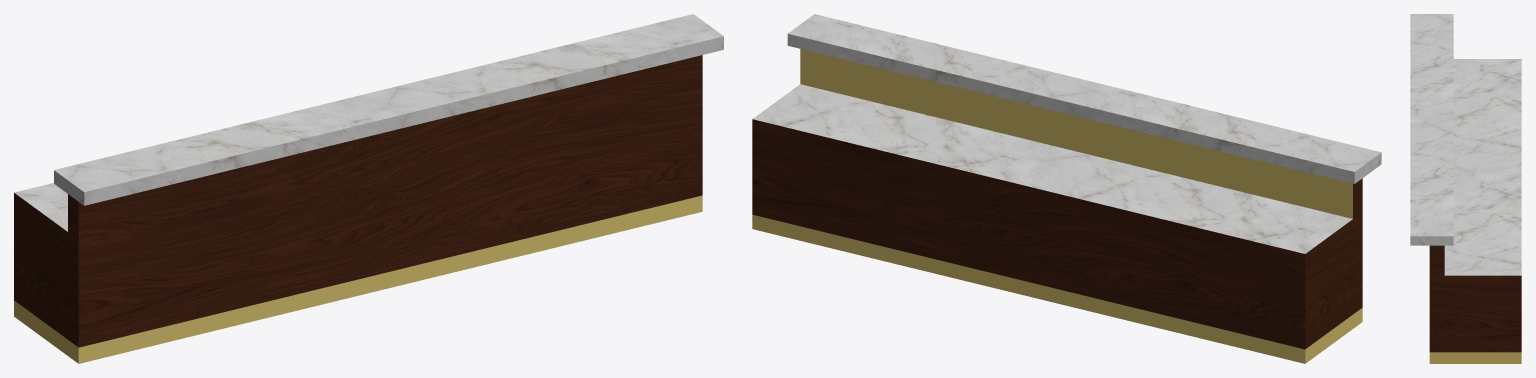
Rendered from bar-counter_front.fbx.
3 views of the same model, side by side, from view 1: azimuth 30°, elevation 25°; view 2: azimuth 150°, elevation 25°; view 3: azimuth 270°, elevation 25° (orthographic). The views are drawn at different scales.
Parts seen in each view (by area): view 1: bar-counter_front; view 2: bar-counter_front; view 3: bar-counter_front.
Part boxes in pixels (x1,y1,x2,y2): bar-counter_front: [14, 14, 723, 363]; bar-counter_front: [752, 14, 1381, 363]; bar-counter_front: [1410, 14, 1521, 363].
Size of the model in its own units: 4.1 by 1.12 by 0.8687.
